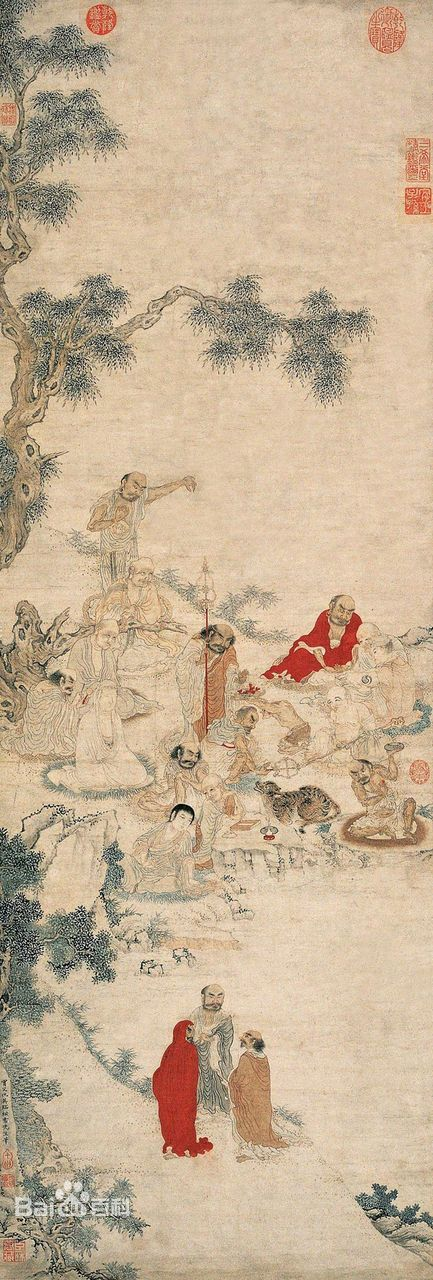bowl: (384, 744, 402, 751)
decoration: (235, 821, 256, 834), (261, 827, 276, 842)
man: (99, 474, 193, 574), (76, 632, 130, 789), (155, 1025, 205, 1152), (235, 1032, 281, 1164), (353, 752, 413, 845), (292, 604, 365, 674), (362, 629, 413, 719), (142, 813, 199, 893), (195, 990, 229, 1115), (165, 754, 227, 813), (29, 675, 79, 748), (210, 632, 239, 726), (328, 690, 365, 745), (112, 584, 159, 625), (234, 716, 259, 760), (310, 734, 335, 760), (116, 574, 159, 587), (208, 812, 234, 833), (268, 663, 290, 673)
tiger: (256, 785, 339, 824)
tree: (58, 282, 363, 393), (3, 6, 47, 571), (7, 1018, 60, 1280), (3, 832, 42, 1023), (68, 1184, 135, 1279), (42, 918, 115, 977), (60, 101, 121, 162)
